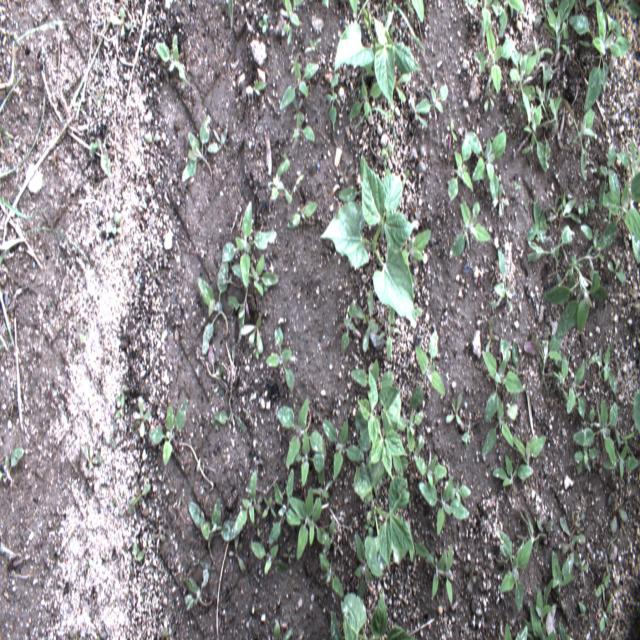crop: (321, 160, 418, 330), (332, 15, 419, 104), (351, 460, 414, 578), (325, 590, 415, 640), (354, 389, 405, 470)
weed: (567, 8, 630, 116), (220, 204, 277, 286), (0, 223, 91, 274), (542, 270, 606, 339), (595, 173, 639, 266), (2, 94, 48, 180), (179, 113, 227, 187), (228, 258, 282, 320), (416, 474, 470, 535), (570, 397, 616, 468), (465, 130, 507, 207), (497, 528, 535, 612), (409, 331, 448, 410), (293, 488, 330, 566), (479, 351, 522, 418), (197, 263, 229, 351), (417, 541, 459, 607), (452, 200, 496, 261), (474, 30, 515, 94), (563, 101, 596, 178), (322, 419, 361, 482), (536, 0, 574, 64), (10, 17, 66, 60), (529, 582, 572, 638), (276, 59, 324, 109), (280, 396, 310, 476), (189, 496, 235, 548), (153, 406, 191, 464), (270, 473, 302, 540), (268, 318, 298, 389), (348, 360, 397, 403), (509, 46, 539, 116), (526, 226, 573, 268), (488, 248, 517, 313), (482, 398, 513, 458), (294, 430, 324, 487), (561, 358, 589, 418), (494, 449, 534, 490), (550, 548, 578, 606), (522, 108, 548, 170), (598, 139, 620, 212), (356, 286, 380, 352), (589, 344, 619, 395), (534, 65, 559, 126), (264, 156, 294, 206), (238, 472, 261, 537), (250, 536, 285, 576), (351, 79, 382, 124), (448, 143, 472, 201), (567, 225, 597, 271), (353, 527, 374, 591), (560, 515, 586, 565), (460, 0, 499, 33), (533, 342, 564, 383), (0, 194, 52, 218), (210, 406, 249, 438), (240, 312, 266, 360), (0, 73, 26, 120), (181, 572, 212, 611), (89, 137, 113, 185), (416, 82, 447, 119), (279, 2, 306, 44), (514, 429, 548, 462), (317, 554, 345, 594), (156, 43, 187, 79), (526, 196, 550, 240), (550, 192, 580, 227), (524, 516, 556, 548), (289, 201, 318, 236), (0, 446, 24, 488), (378, 105, 395, 163), (497, 0, 526, 34), (406, 433, 429, 472), (110, 8, 138, 40), (338, 304, 355, 356), (446, 384, 464, 433), (616, 442, 638, 482), (600, 0, 638, 23), (126, 482, 156, 511), (288, 120, 315, 152), (571, 447, 600, 476), (105, 204, 125, 243), (134, 399, 152, 442), (379, 310, 394, 360), (128, 534, 150, 568), (83, 443, 102, 477), (328, 74, 340, 127), (409, 229, 428, 262), (592, 572, 612, 602), (618, 144, 638, 174), (244, 76, 268, 100), (228, 542, 246, 574), (426, 456, 450, 479), (336, 179, 360, 201), (394, 74, 411, 104), (466, 555, 478, 597), (557, 355, 571, 390), (271, 622, 297, 640), (608, 504, 626, 530), (141, 127, 162, 149), (115, 386, 129, 419), (577, 192, 596, 216), (570, 510, 588, 535), (504, 622, 530, 639), (408, 0, 426, 24), (486, 321, 498, 356), (610, 256, 625, 284), (258, 11, 274, 37), (92, 81, 106, 110), (631, 389, 639, 439), (597, 604, 612, 630), (261, 494, 275, 521), (496, 186, 509, 215), (403, 416, 426, 432), (480, 85, 495, 109), (576, 600, 590, 625), (110, 497, 124, 520), (226, 1, 237, 30), (301, 38, 321, 53), (605, 482, 618, 502), (292, 101, 306, 119), (459, 480, 471, 499), (448, 120, 457, 145), (364, 514, 375, 534), (286, 550, 296, 570), (162, 626, 176, 639), (511, 343, 519, 364), (349, 0, 357, 20), (93, 630, 109, 639), (416, 304, 424, 319)
